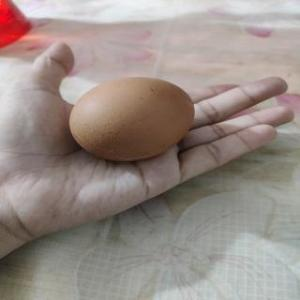egg: (66, 76, 200, 162)
